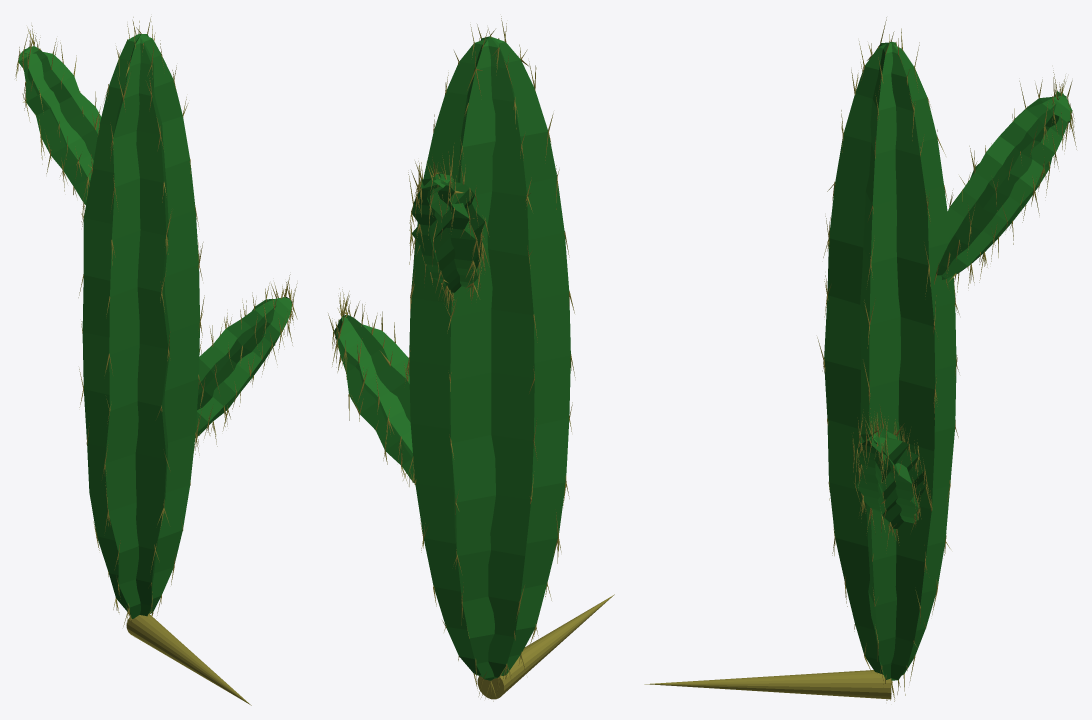
Rendered from garambullo.glb.
3 views of the same model, side by side, from view 1: azimuth 30°, elevation 25°; view 2: azimuth 150°, elevation 25°; view 3: azimuth 270°, elevation 25° (orthographic). The views are drawn at different scales.
Parts seen in each view (by area): view 1: Sphere.001, Cone; view 2: Sphere.001, Cone; view 3: Sphere.001, Cone.
Boxes of the visible parts, box(x1,y1,x2,y2) form: Sphere.001: box(18, 33, 291, 618); Cone: box(126, 614, 251, 705); Sphere.001: box(334, 36, 570, 680); Cone: box(477, 594, 614, 699); Sphere.001: box(824, 41, 1072, 680); Cone: box(644, 670, 891, 699).
Size of the model in its own units: 2.11 by 6.14 by 3.51.
